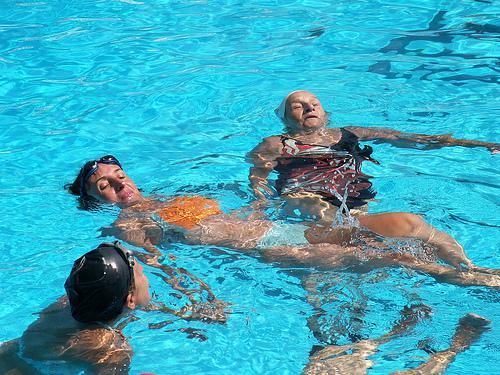swimmer: (75, 156, 499, 290), (0, 241, 160, 374), (247, 88, 384, 215)
